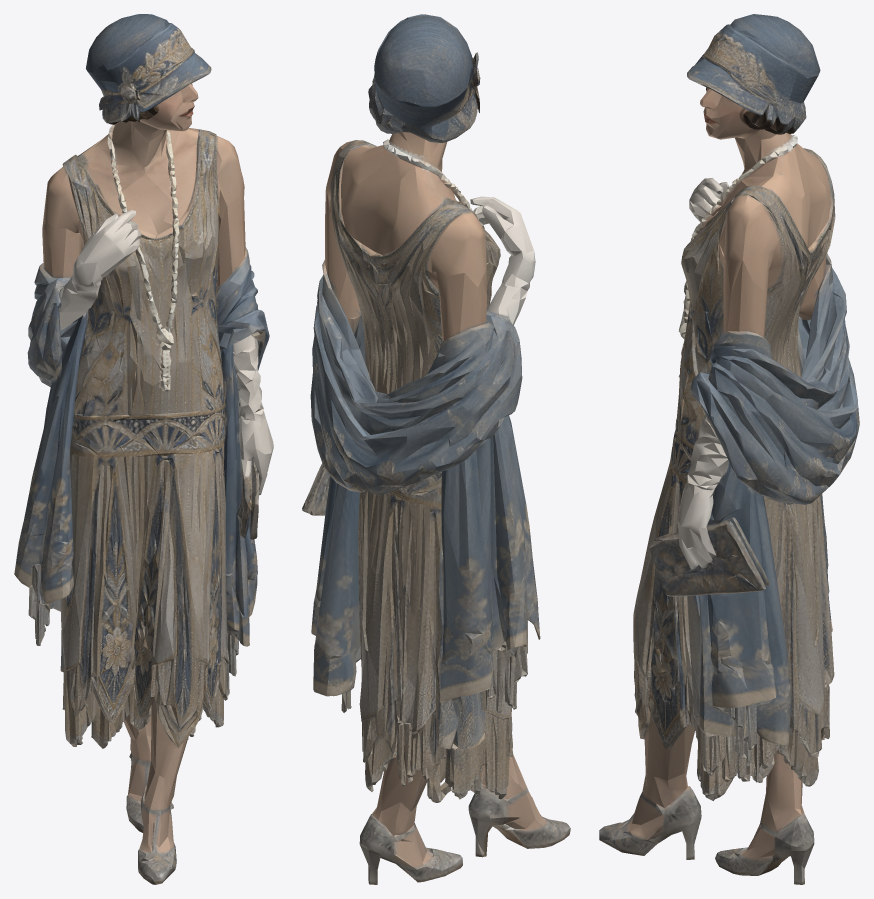
Rendered from cast_upper_woman.glb.
3 views of the same model, side by side, from view 1: azimuth 30°, elevation 25°; view 2: azimuth 150°, elevation 25°; view 3: azimuth 270°, elevation 25° (orthographic). The views are drawn at different scales.
Visible parts, largest first — view 1: CastUpperWomanMesh; view 2: CastUpperWomanMesh; view 3: CastUpperWomanMesh.
Part boxes in pixels (left/top/right/bottom): CastUpperWomanMesh: left=14, top=14, right=273, bottom=884; CastUpperWomanMesh: left=302, top=14, right=570, bottom=884; CastUpperWomanMesh: left=599, top=14, right=859, bottom=884.
Bounding box in the file's own units: 0.5539 × 1.9 × 0.528.
Materials: 1 (1 with a texture image).
